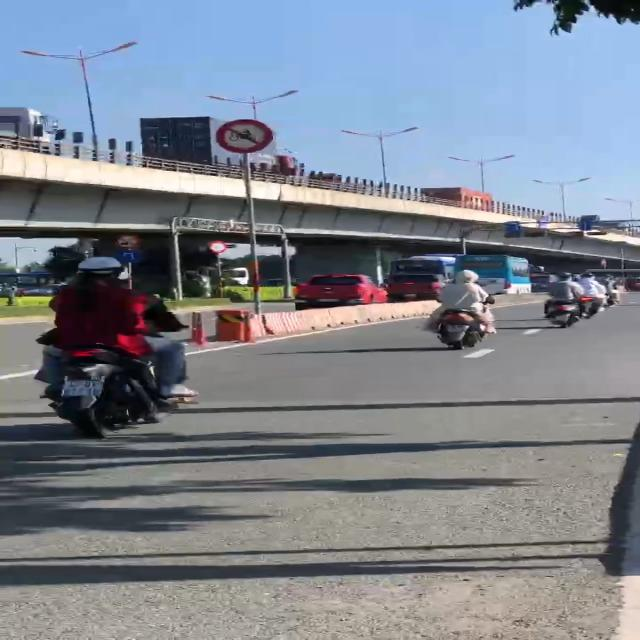Bien bao cam xe may: (215, 116, 278, 158)
